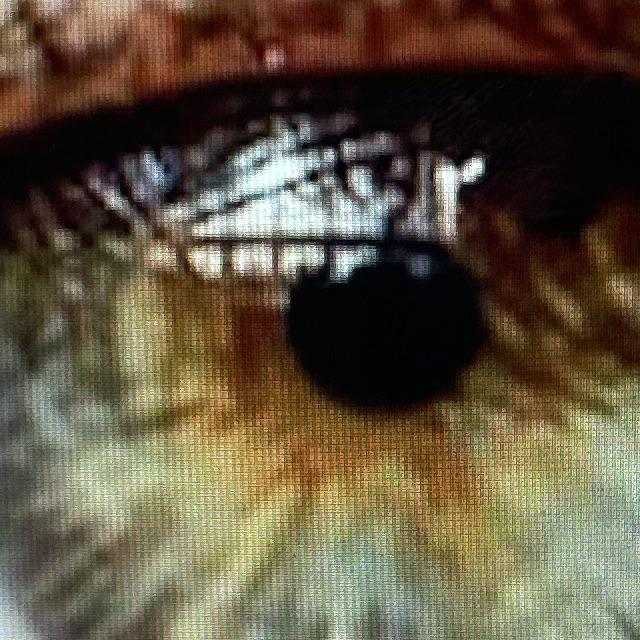eye: (0, 14, 640, 640)
iris: (0, 69, 640, 640)
